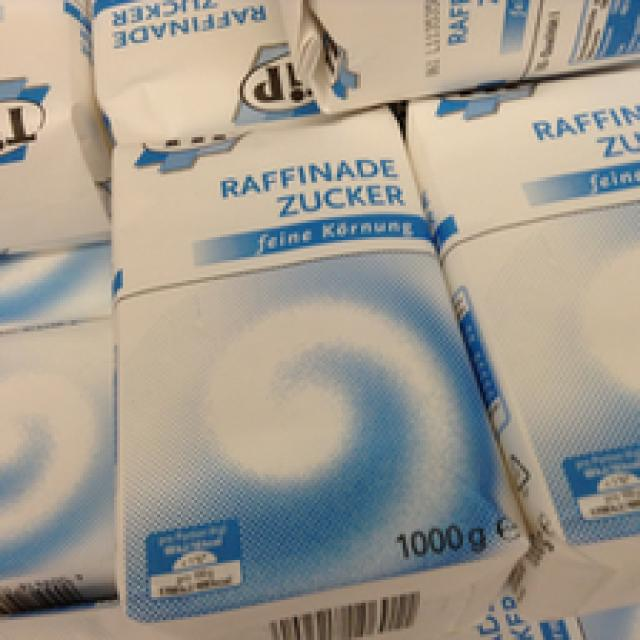groceries: (106, 106, 526, 637), (400, 66, 637, 600)
